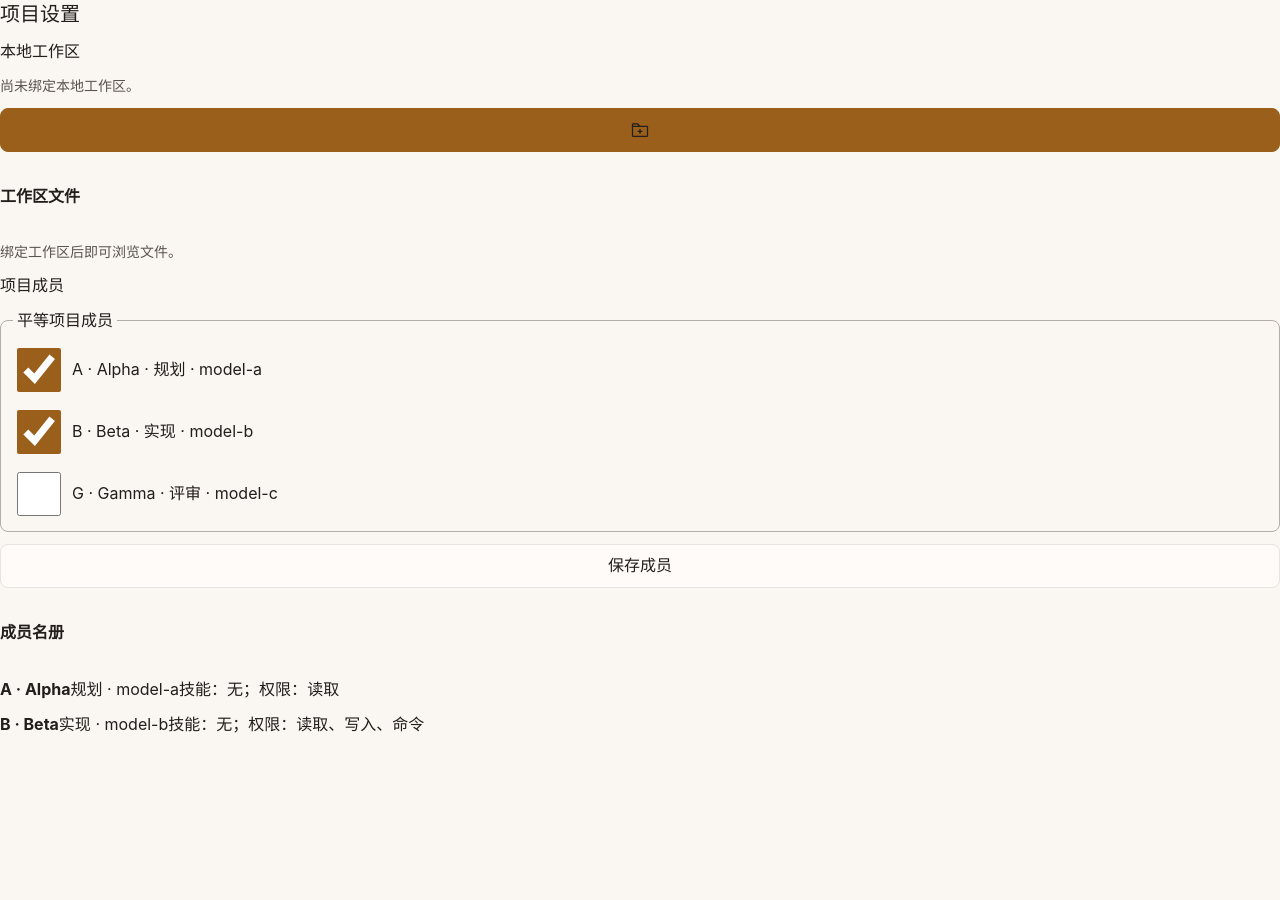
Scenario: workspace and equal-member setup › isolates coordinated versions when switching from a high to low version project
The width and height of the screenshot is (1280, 900).
Expected: the text "尚未绑定本地工作区。" is shown, [0,76,140,94]
Step 1. Click the button named "绑定工作区" → click(640, 130), box [0,108,1279,152]
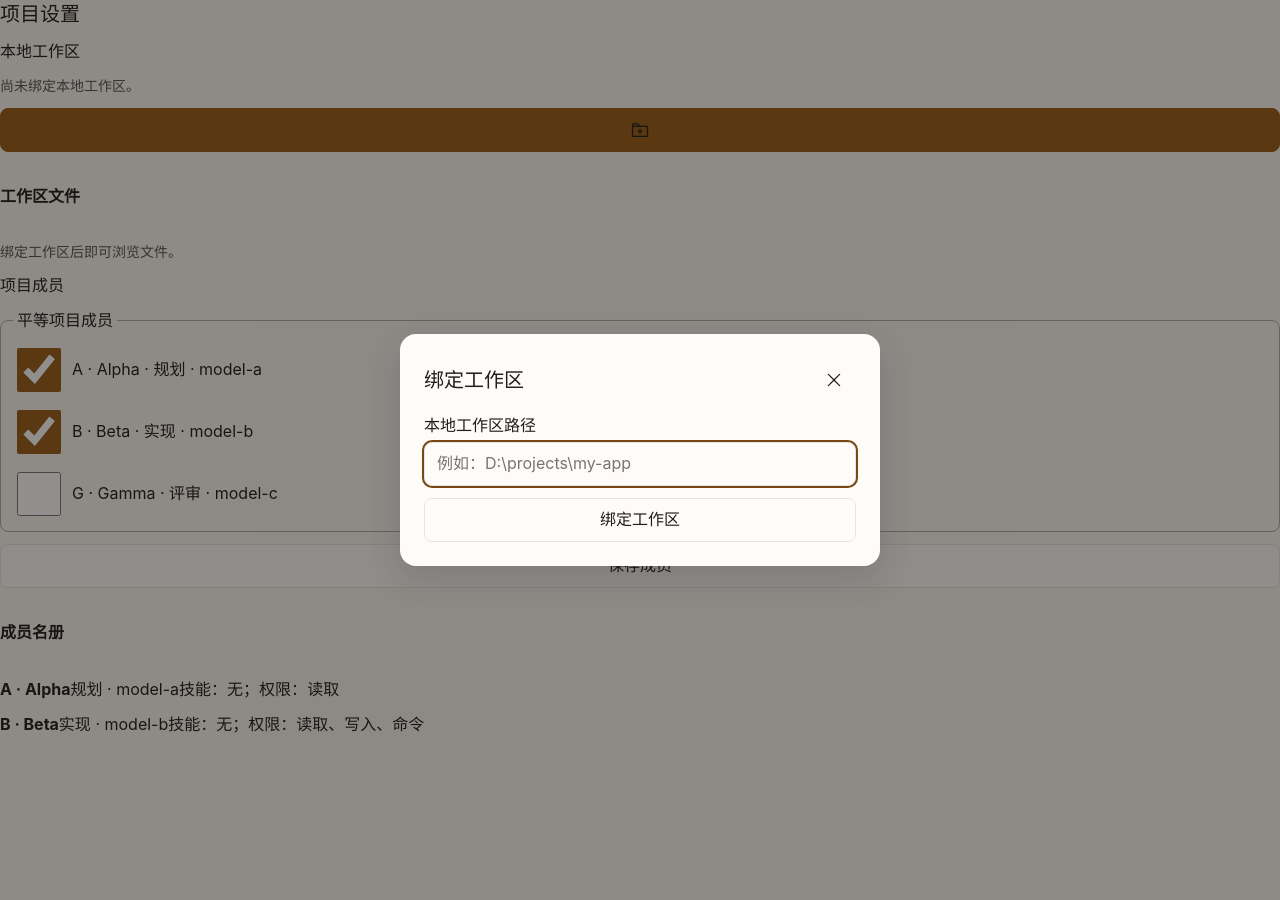
Step 2. Type "D:\\low" into the field labelled "本地工作区路径" → (640, 464), box [424,442,856,486]
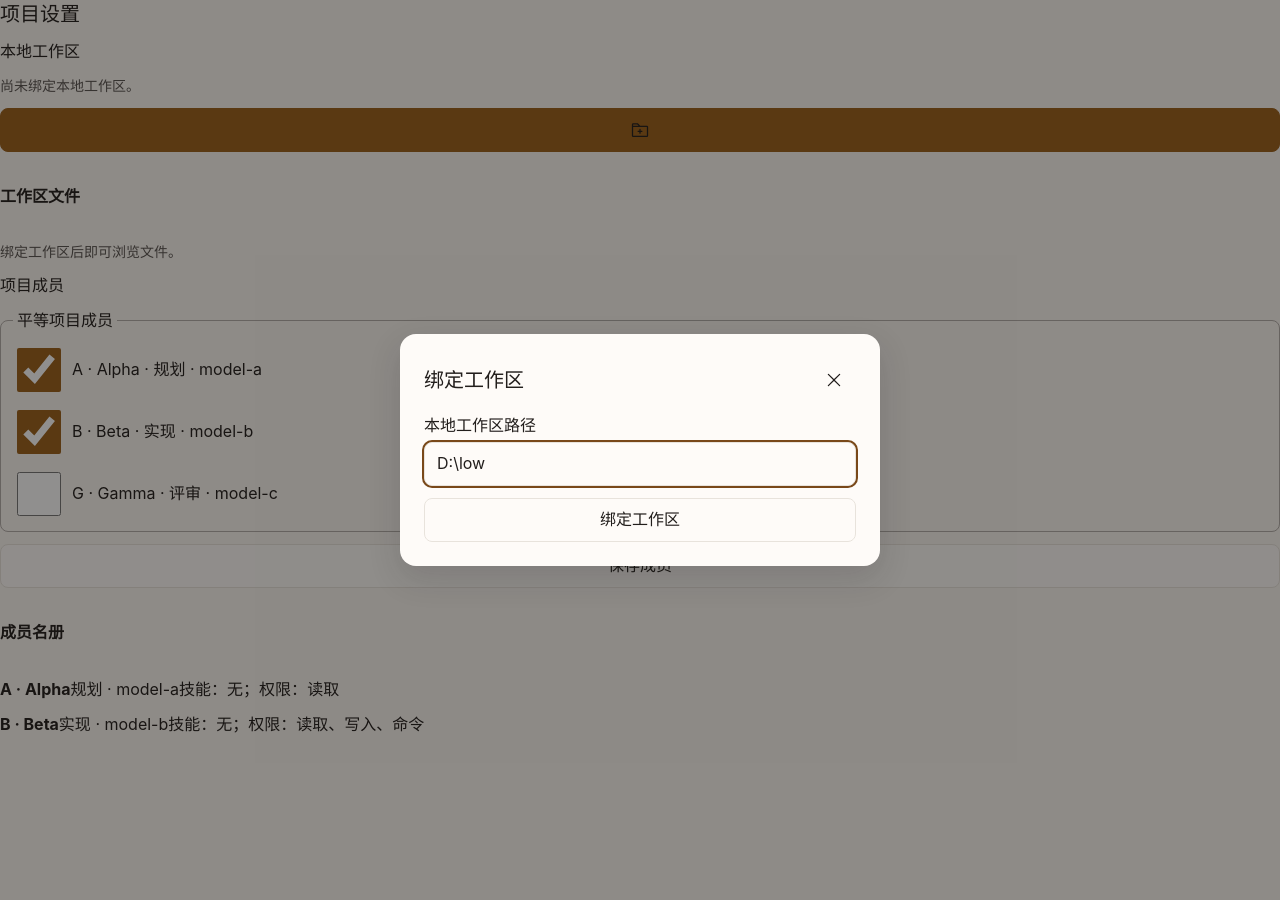
Step 3. Click the button "绑定工作区" → click(640, 520), box [424,498,856,542]
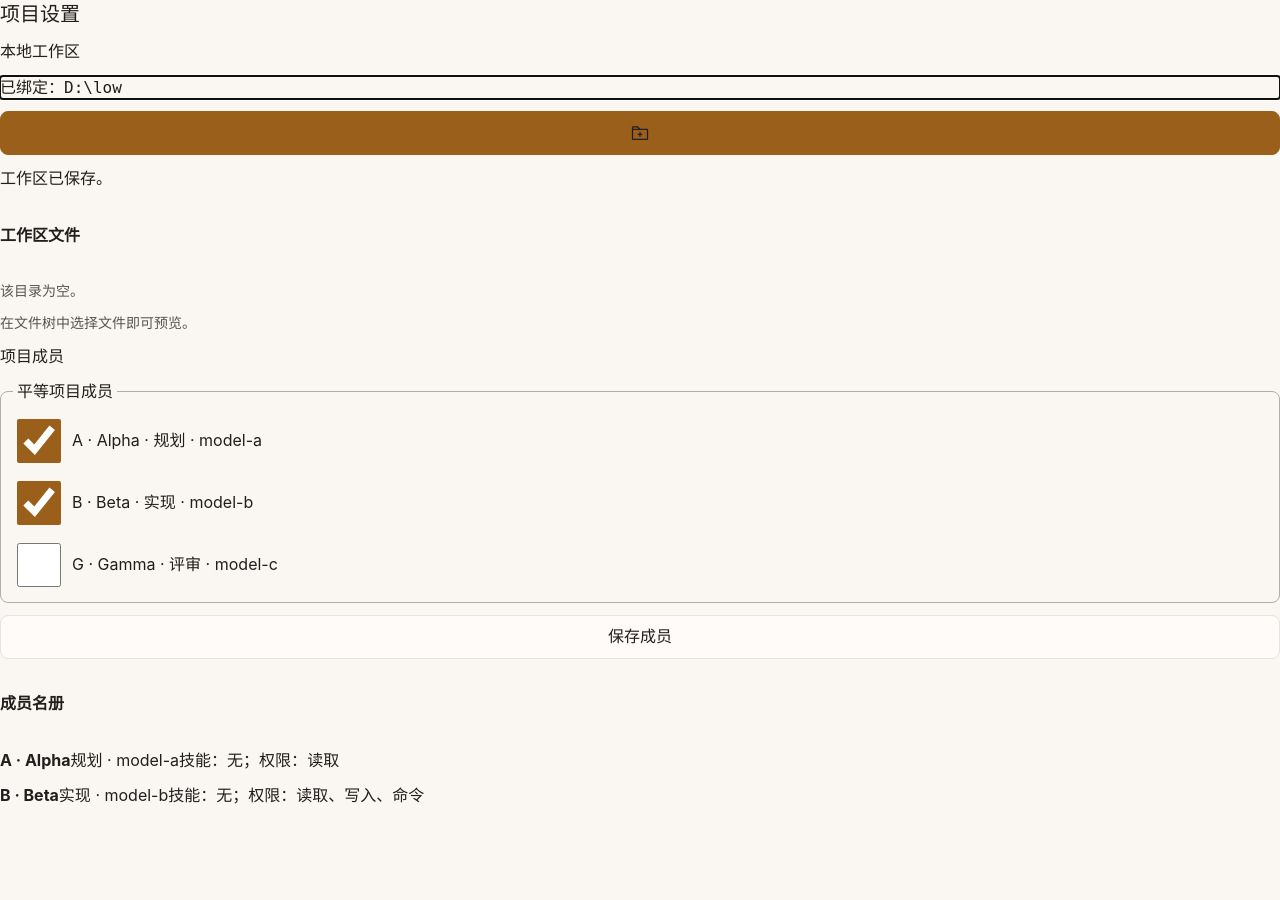
Result: the text "工作区已保存。" is shown at [0,168,112,188]
Step 4. Click the button "保存成员" → click(640, 637), box [0,615,1279,659]
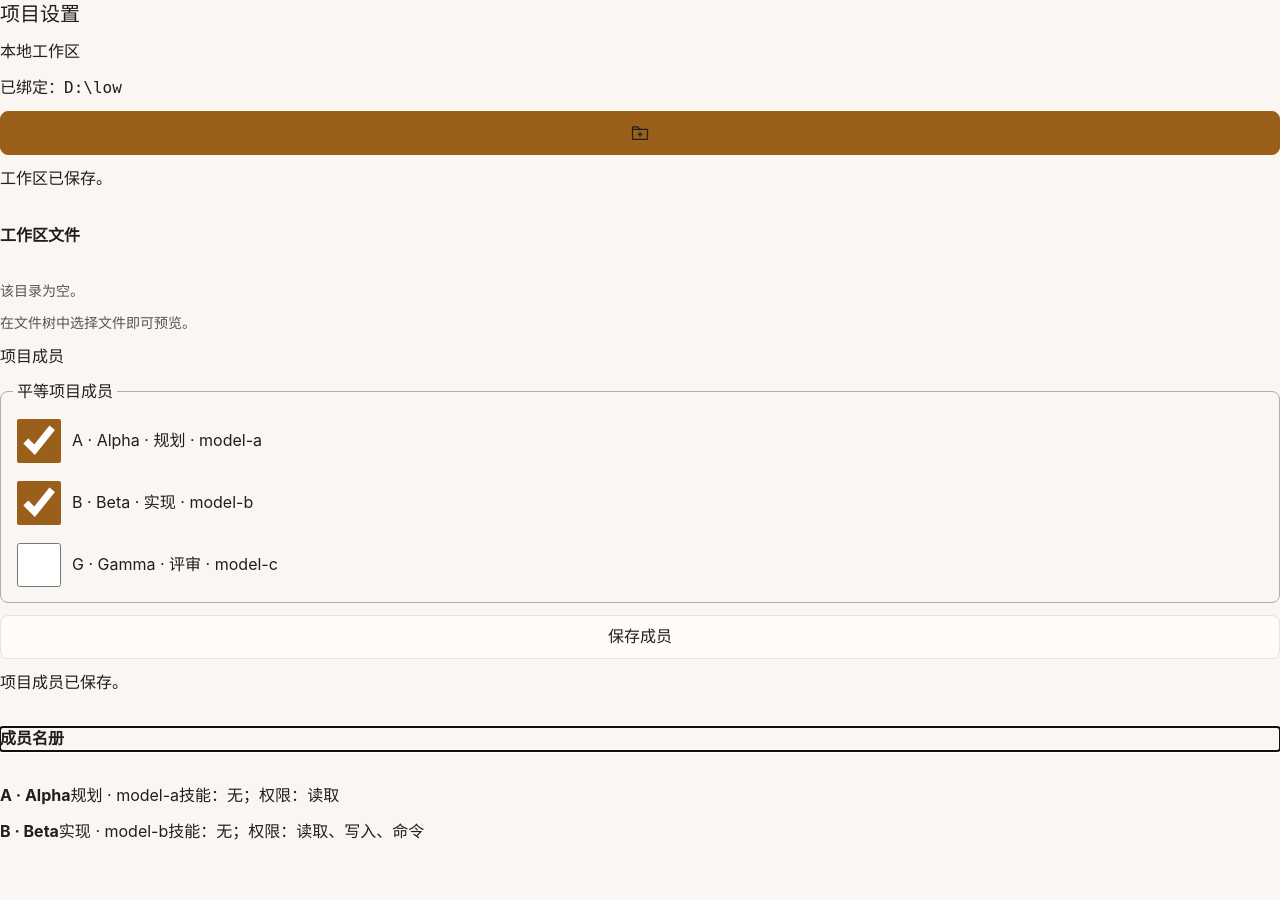
Result: the text "项目成员已保存。" is shown at [0,672,128,692]
